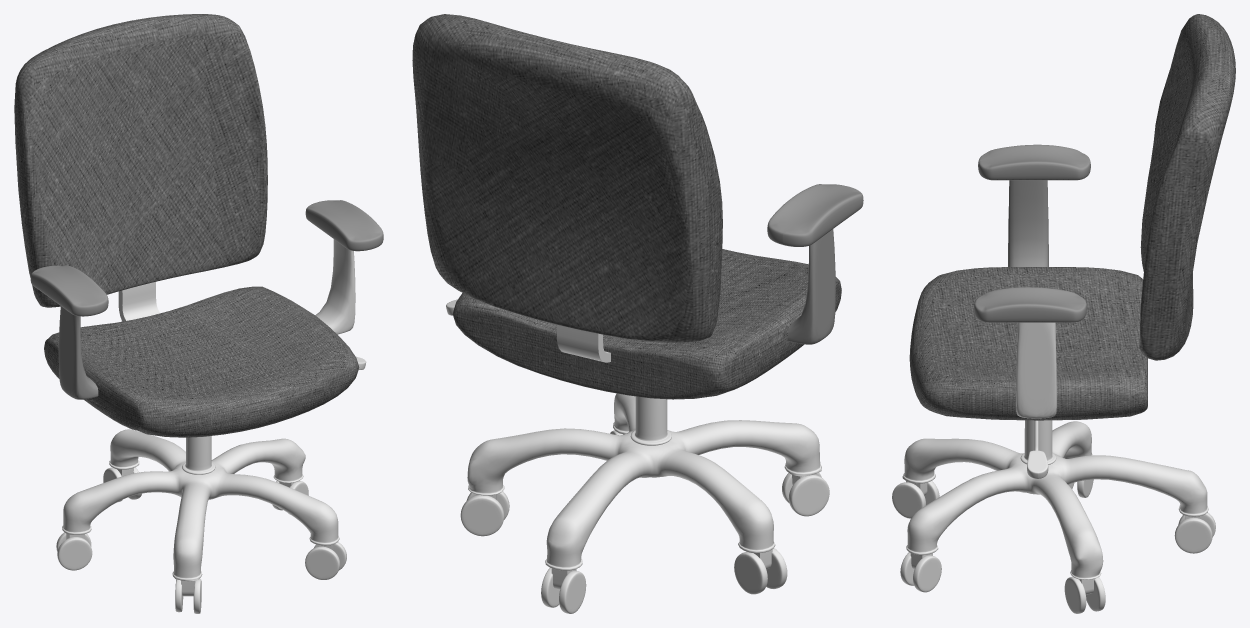
The model's file is desk_chair.FBX.
3 views of the same model, side by side, from view 1: azimuth 30°, elevation 25°; view 2: azimuth 150°, elevation 25°; view 3: azimuth 270°, elevation 25° (orthographic). The views are drawn at different scales.
Parts seen in each view (by area): view 1: Box002, Box001, Cone006, Rectangle007, Rectangle006, Line004, Line005, Line001, Cone005, Cone013, Cone007; view 2: Box002, Box001, Cone006, Rectangle007, Line005, Cone005, Cone010, Cone016, Line001, Cone014, Cone011, Cone013; view 3: Box001, Box002, Cone006, Line004, Rectangle007, Rectangle006, Line005, Cone012, Cone005, Cone015, Cone008, Cone009 (+1 smaller).
Boxes of the visible parts, bbox=[...] form: Box002: bbox=[14, 14, 267, 307]; Box001: bbox=[44, 286, 359, 437]; Cone006: bbox=[62, 429, 339, 581]; Rectangle007: bbox=[30, 265, 108, 316]; Rectangle006: bbox=[305, 200, 383, 251]; Line004: bbox=[315, 239, 355, 334]; Line005: bbox=[58, 306, 98, 399]; Line001: bbox=[118, 282, 159, 321]; Cone005: bbox=[182, 436, 215, 474]; Cone013: bbox=[57, 537, 92, 570]; Cone007: bbox=[305, 546, 340, 579]; Box002: bbox=[412, 14, 722, 342]; Box001: bbox=[452, 249, 841, 399]; Cone006: bbox=[467, 393, 821, 570]; Rectangle007: bbox=[767, 184, 863, 246]; Line005: bbox=[788, 229, 835, 344]; Cone005: bbox=[630, 396, 671, 445]; Cone010: bbox=[460, 495, 504, 536]; Cone016: bbox=[788, 474, 829, 516]; Line001: bbox=[557, 324, 610, 362]; Cone014: bbox=[734, 552, 767, 594]; Cone011: bbox=[559, 570, 586, 613]; Cone013: bbox=[766, 548, 787, 588]; Box001: bbox=[909, 267, 1147, 420]; Box002: bbox=[1139, 14, 1235, 360]; Cone006: bbox=[902, 421, 1208, 579]; Line004: bbox=[1016, 322, 1056, 418]; Rectangle007: bbox=[978, 144, 1090, 180]; Rectangle006: bbox=[974, 287, 1086, 322]; Line005: bbox=[1008, 180, 1048, 266]; Cone012: bbox=[1174, 517, 1212, 553]; Cone005: bbox=[1020, 420, 1056, 464]; Cone015: bbox=[892, 482, 925, 518]; Cone008: bbox=[913, 555, 941, 592]; Cone009: bbox=[1064, 576, 1086, 613].
Bounding box in the file's own units: 93.89 × 133 × 83.04.
